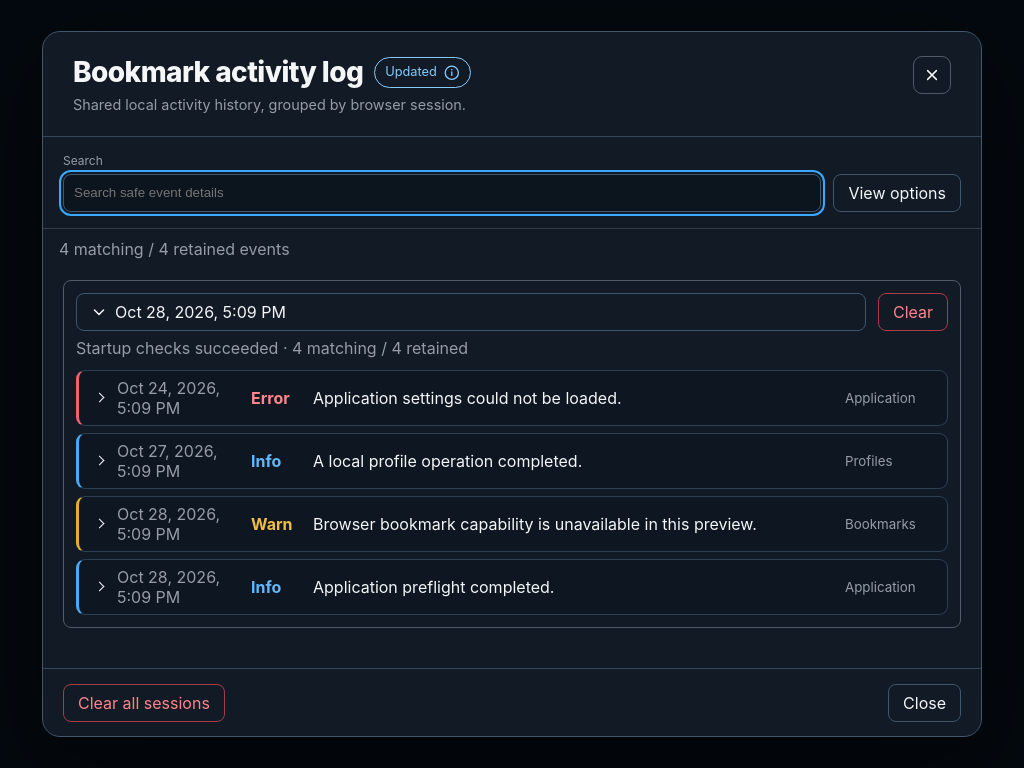
Test: shared activity log › reports a failed confirmation without deleting history
Click the button "Clear all sessions": (144, 703) [63,684,225,722]
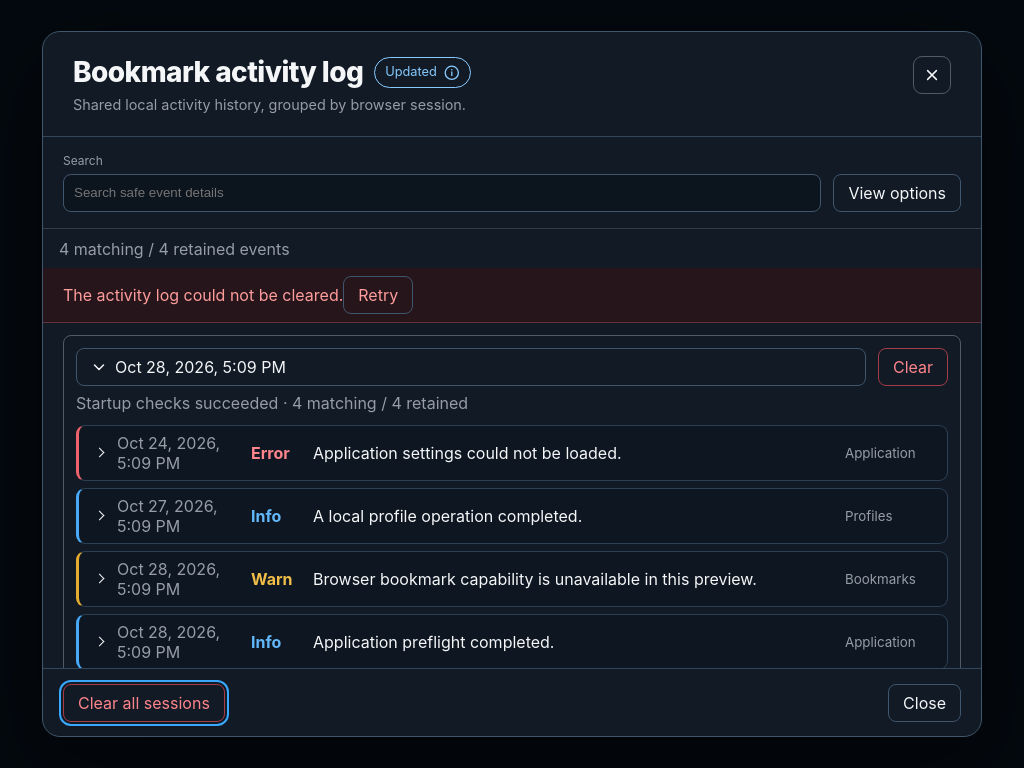
Check: the message "The activity log could not be cleared. Retry" is shown, box [43,268,981,323]
